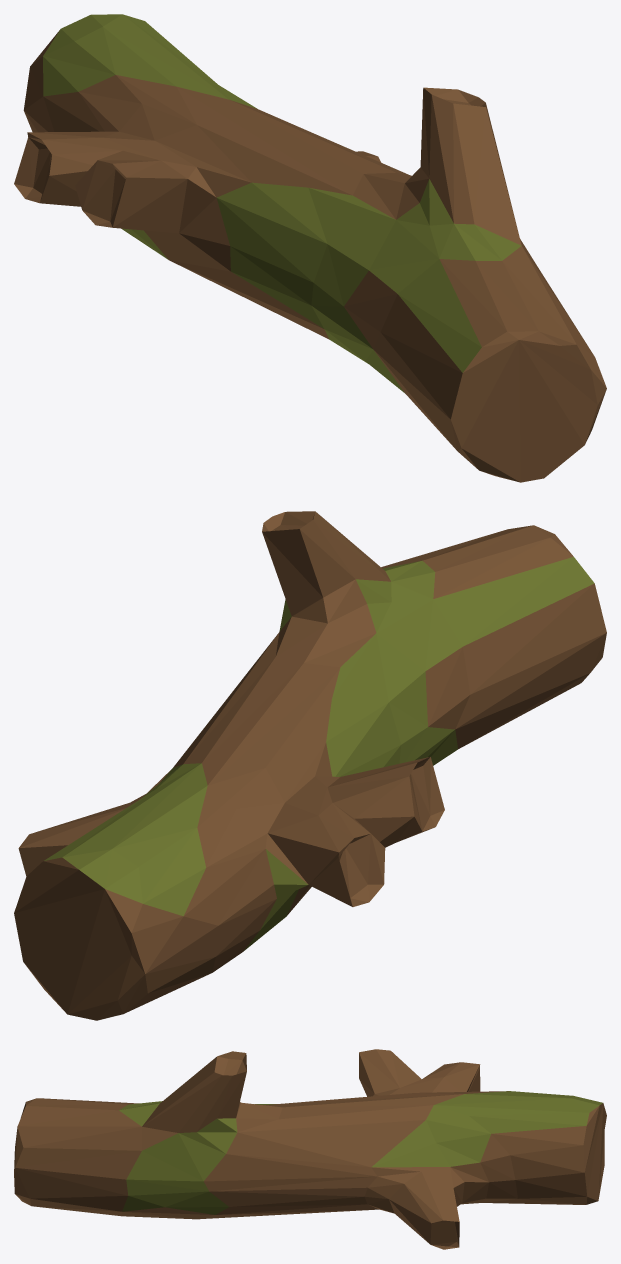
File: mossy_log.fbx
The picture shows the model from 3 angles, top to bottom: view 1: azimuth 30°, elevation 25°; view 2: azimuth 150°, elevation 25°; view 3: azimuth 270°, elevation 25°; orthographic projection. The views are drawn at different scales.
Parts seen in each view (by area): view 1: Cylinder, Cylinder.001, Cylinder.002; view 2: Cylinder, Cylinder.001, Cylinder.002; view 3: Cylinder, Cylinder.001, Cylinder.002.
Boxes of the visible parts, <box> form: Cylinder: <box>14,30,606,482</box>; Cylinder.001: <box>43,14,521,393</box>; Cylinder.002: <box>451,331,597,482</box>; Cylinder: <box>18,511,606,1020</box>; Cylinder.001: <box>44,556,594,951</box>; Cylinder.002: <box>14,525,572,1014</box>; Cylinder: <box>14,1049,597,1249</box>; Cylinder.001: <box>119,1091,602,1214</box>; Cylinder.002: <box>21,1098,606,1200</box>.
Bounding box in the file's own units: 298 × 219 × 693.
